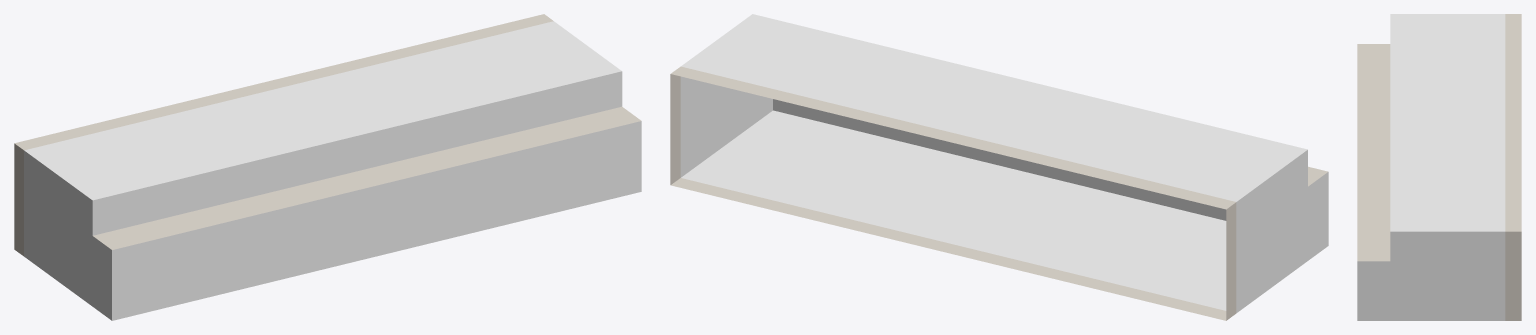
3 renders of one model, left to right at view 1: azimuth 30°, elevation 25°; view 2: azimuth 150°, elevation 25°; view 3: azimuth 270°, elevation 25°, orthographic. The views are drawn at different scales.
Visible parts, largest first — view 1: 立方体; view 2: 立方体; view 3: 立方体.
Part boxes in pixels (x1=…): 立方体: x1=14, y1=14, x2=641, y2=320; 立方体: x1=670, y1=14, x2=1328, y2=320; 立方体: x1=1357, y1=14, x2=1521, y2=320.
Size of the model in its own units: 3.13 by 0.6 by 1.
1 material, 1 textured.
